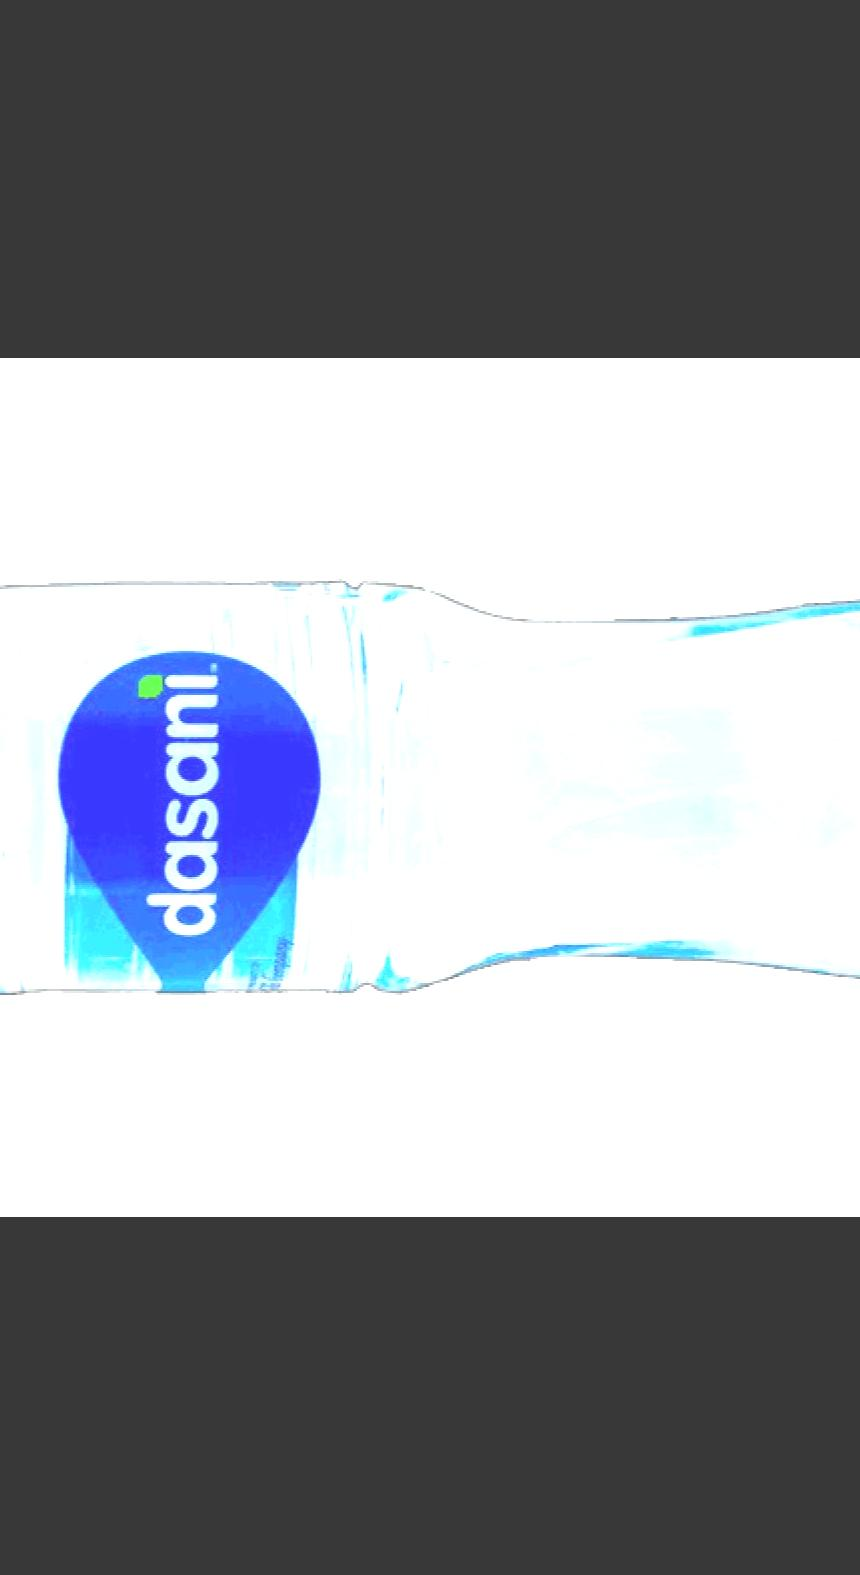bottle: (0, 559, 860, 1006)
